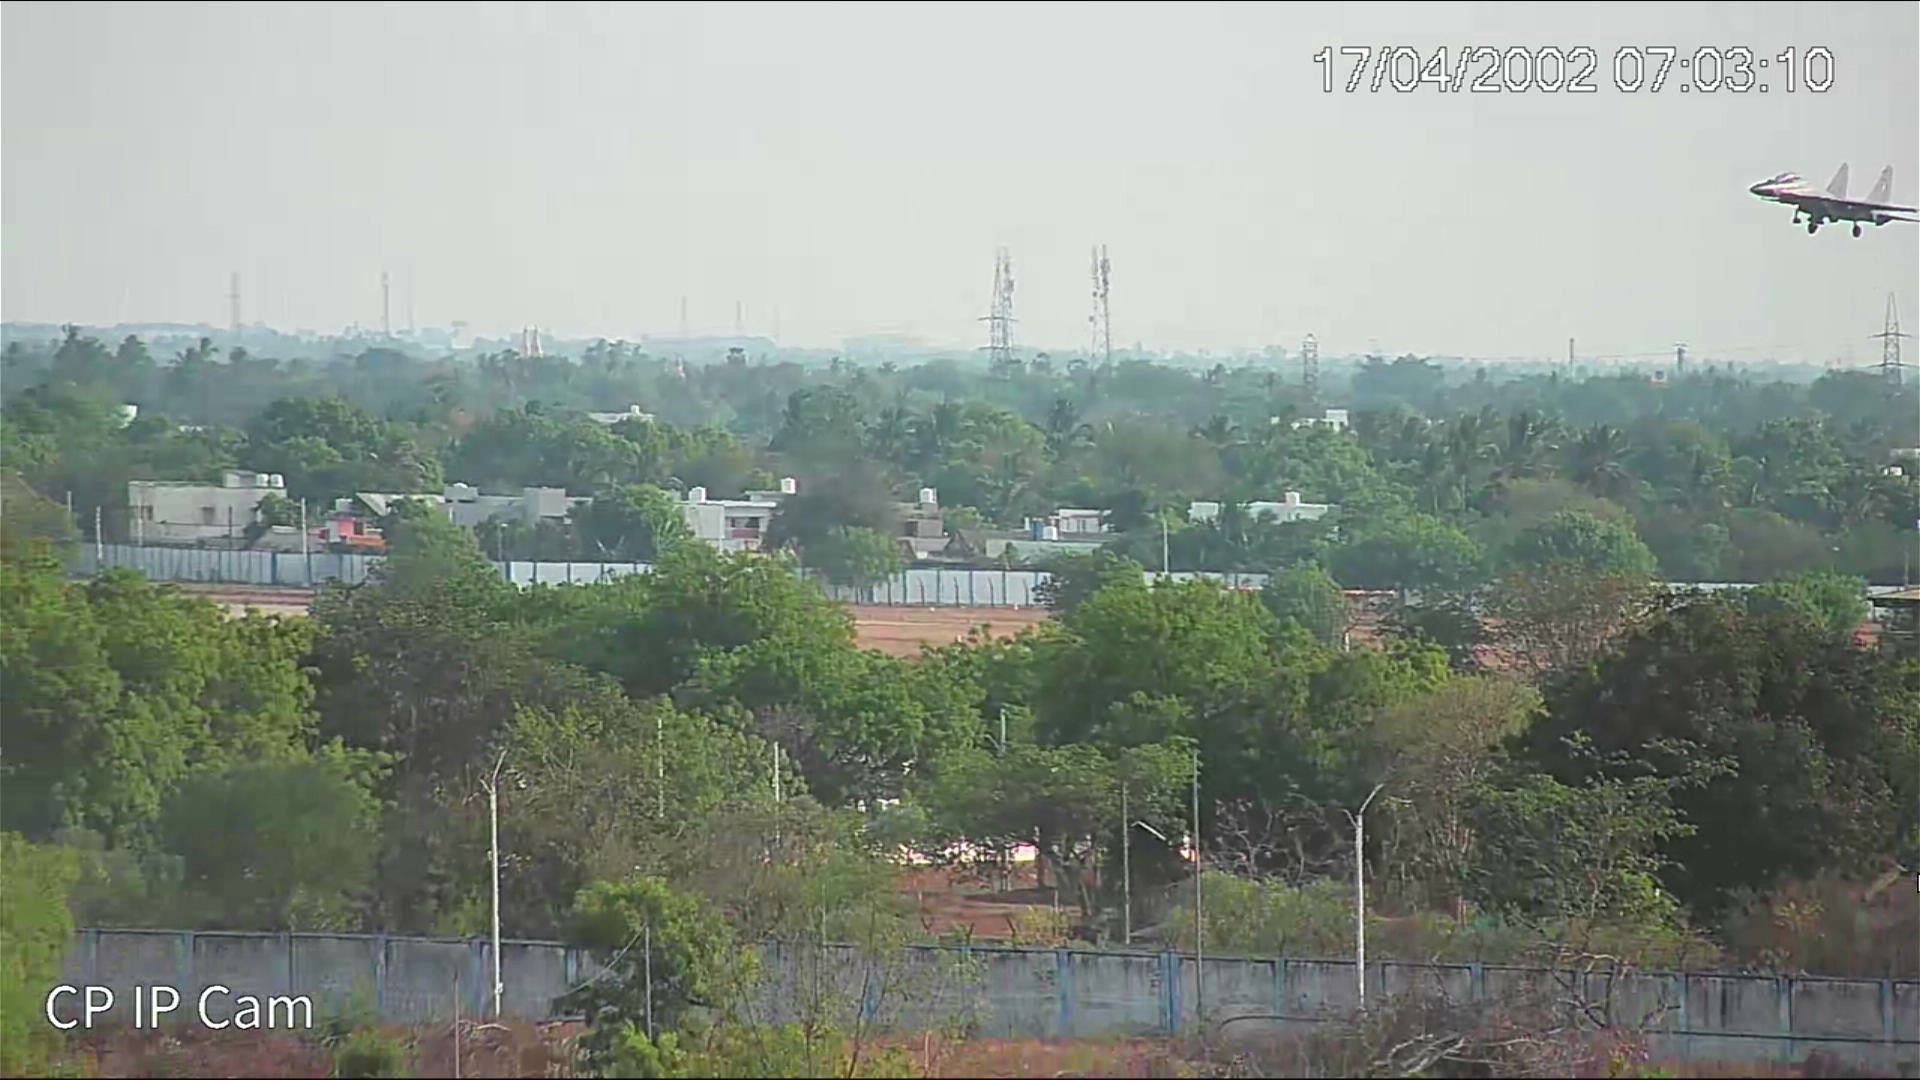SU_30: (1742, 164, 1920, 239)
